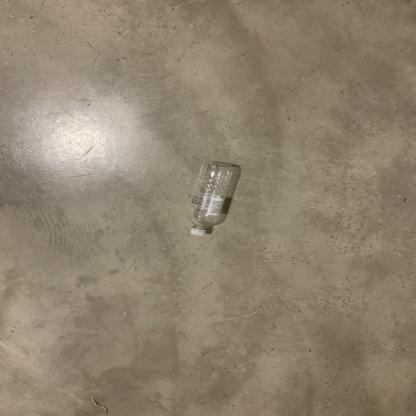trash: (183, 160, 240, 240)
